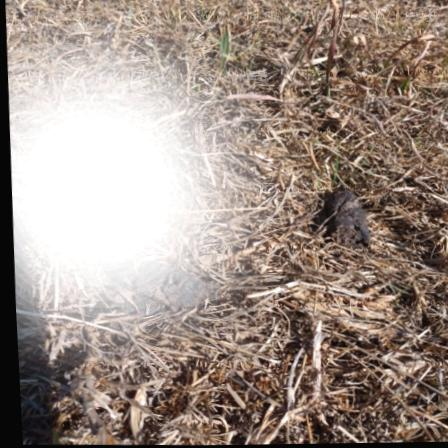dog-poop: (300, 185, 384, 256)
